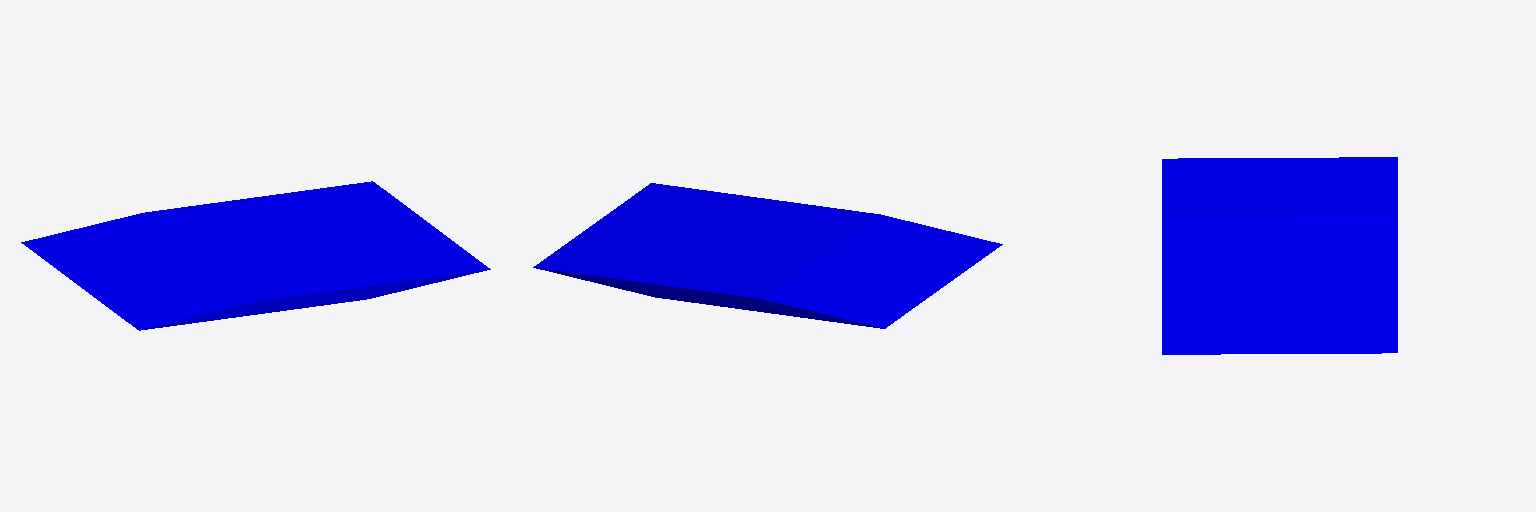
File: planes_1-dynamic - BLK2GO-3630355-Scan 080 37.obj
The picture shows the model from 3 angles: view 1: azimuth 30°, elevation 25°; view 2: azimuth 150°, elevation 25°; view 3: azimuth 270°, elevation 25°; orthographic projection.
Parts seen in each view (by area): view 1: 1-dynamic_-_BLK2GO-[number redacted]-Scan_080_37_0; view 2: 1-dynamic_-_BLK2GO-[number redacted]-Scan_080_37_0; view 3: 1-dynamic_-_BLK2GO-[number redacted]-Scan_080_37_0.
Boxes of the visible parts, x1,y1,x2,y2 form: 1-dynamic_-_BLK2GO-[number redacted]-Scan_080_37_0: [21, 181, 490, 330]; 1-dynamic_-_BLK2GO-[number redacted]-Scan_080_37_0: [533, 183, 1002, 328]; 1-dynamic_-_BLK2GO-[number redacted]-Scan_080_37_0: [1162, 157, 1397, 354].
Bounding box in the file's own units: 2.91 × 0.2061 × 1.69.